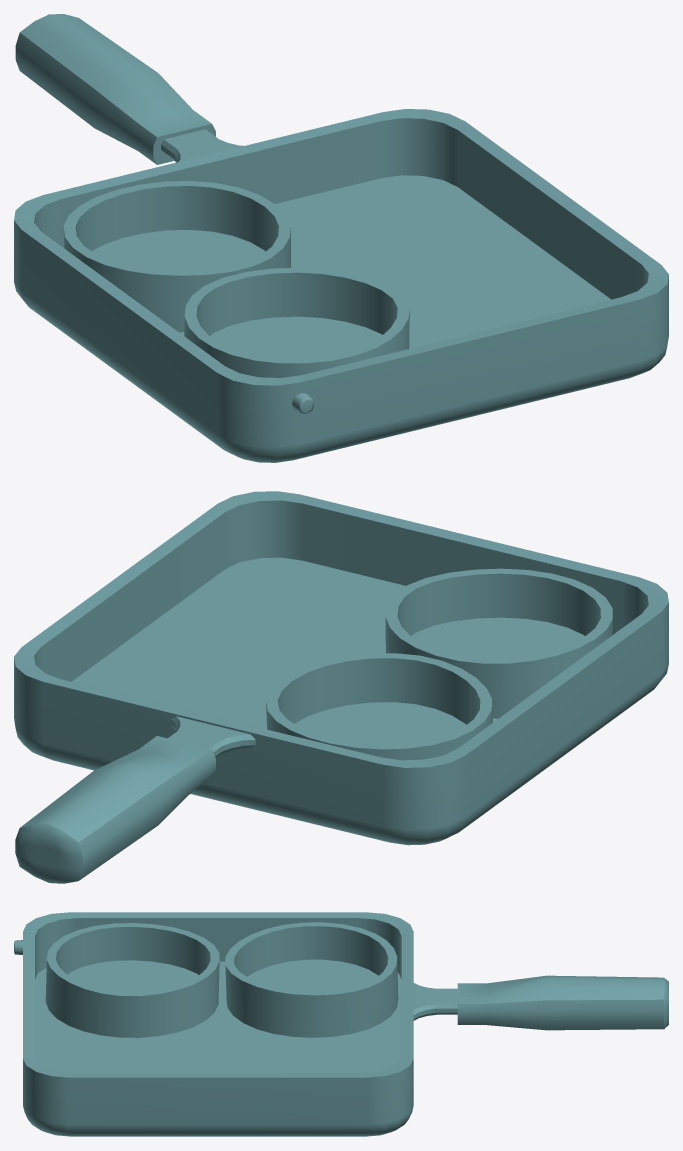
Rendered from SM_FRYING_PAN_IA.fbx.
The picture shows the model from 3 angles, top to bottom: view 1: azimuth 30°, elevation 25°; view 2: azimuth 150°, elevation 25°; view 3: azimuth 270°, elevation 25°; orthographic projection. The views are drawn at different scales.
Visible parts, largest first — view 1: SM_FRYING_PAN_IA; view 2: SM_FRYING_PAN_IA; view 3: SM_FRYING_PAN_IA.
Boxes of the visible parts, x1,y1,x2,y2 form: SM_FRYING_PAN_IA: (14, 14, 668, 462); SM_FRYING_PAN_IA: (14, 491, 668, 883); SM_FRYING_PAN_IA: (14, 912, 668, 1136).
Size of the model in its own units: 40 by 9.32 by 67.03.
